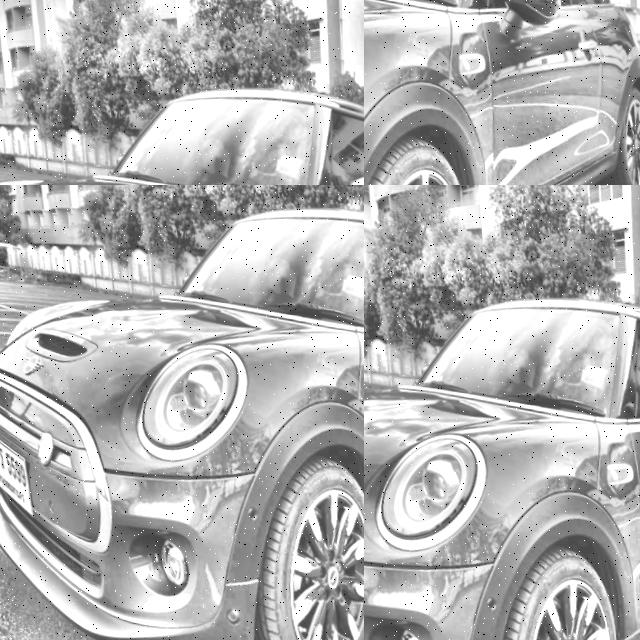license-plate: (421, 52, 513, 142)
